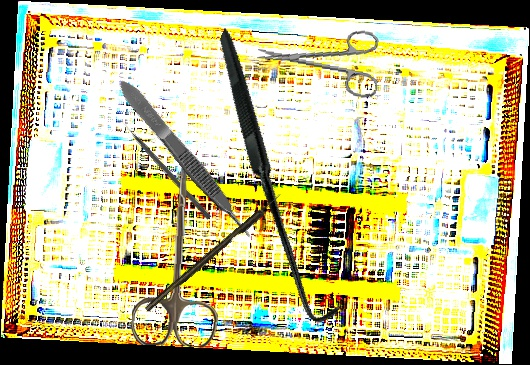Hook Surgical: (132, 26, 424, 329), (143, 192, 285, 313)
Iris Scissors: (130, 152, 224, 348), (253, 17, 384, 100)
Pusher: (118, 116, 213, 221)
Tissue Forceps: (114, 74, 258, 246)
